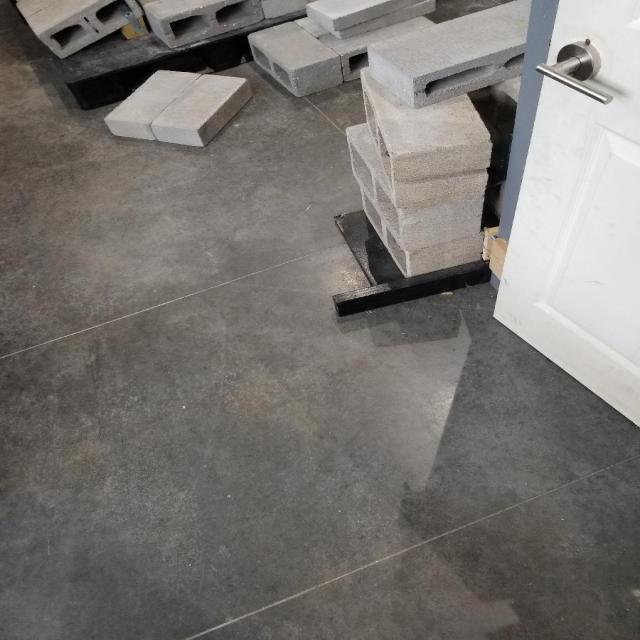door: (528, 38, 618, 108)
